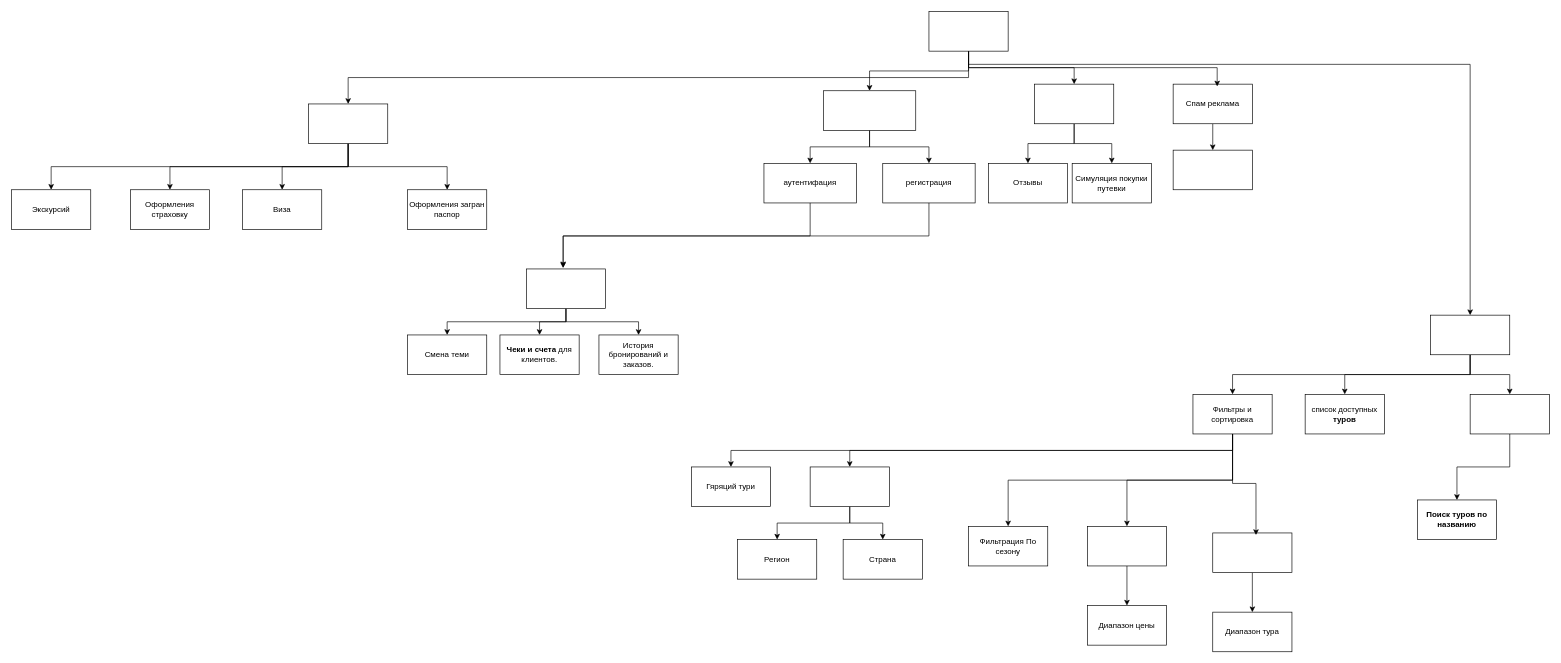
Some shapes in this 1561 by 663 pixel diagram are drawn without their labels. Each missing label, with the box of its shape:
SQLЗапроси: (1430, 314, 1510, 355)
бронирования туров: (1034, 83, 1114, 124)
длительности тура: (1212, 532, 1292, 573)
личный кабинет: (526, 268, 606, 309)
Локацийни: (809, 466, 889, 507)
начало: (928, 11, 1008, 51)
Отправка гяряцих путевок: (1172, 149, 1252, 190)
Поискова система: (1469, 394, 1549, 434)
система управления доступом: (823, 90, 916, 130)
Услуг: (308, 103, 388, 144)
Ценивой фильтрация: (1087, 526, 1167, 566)
